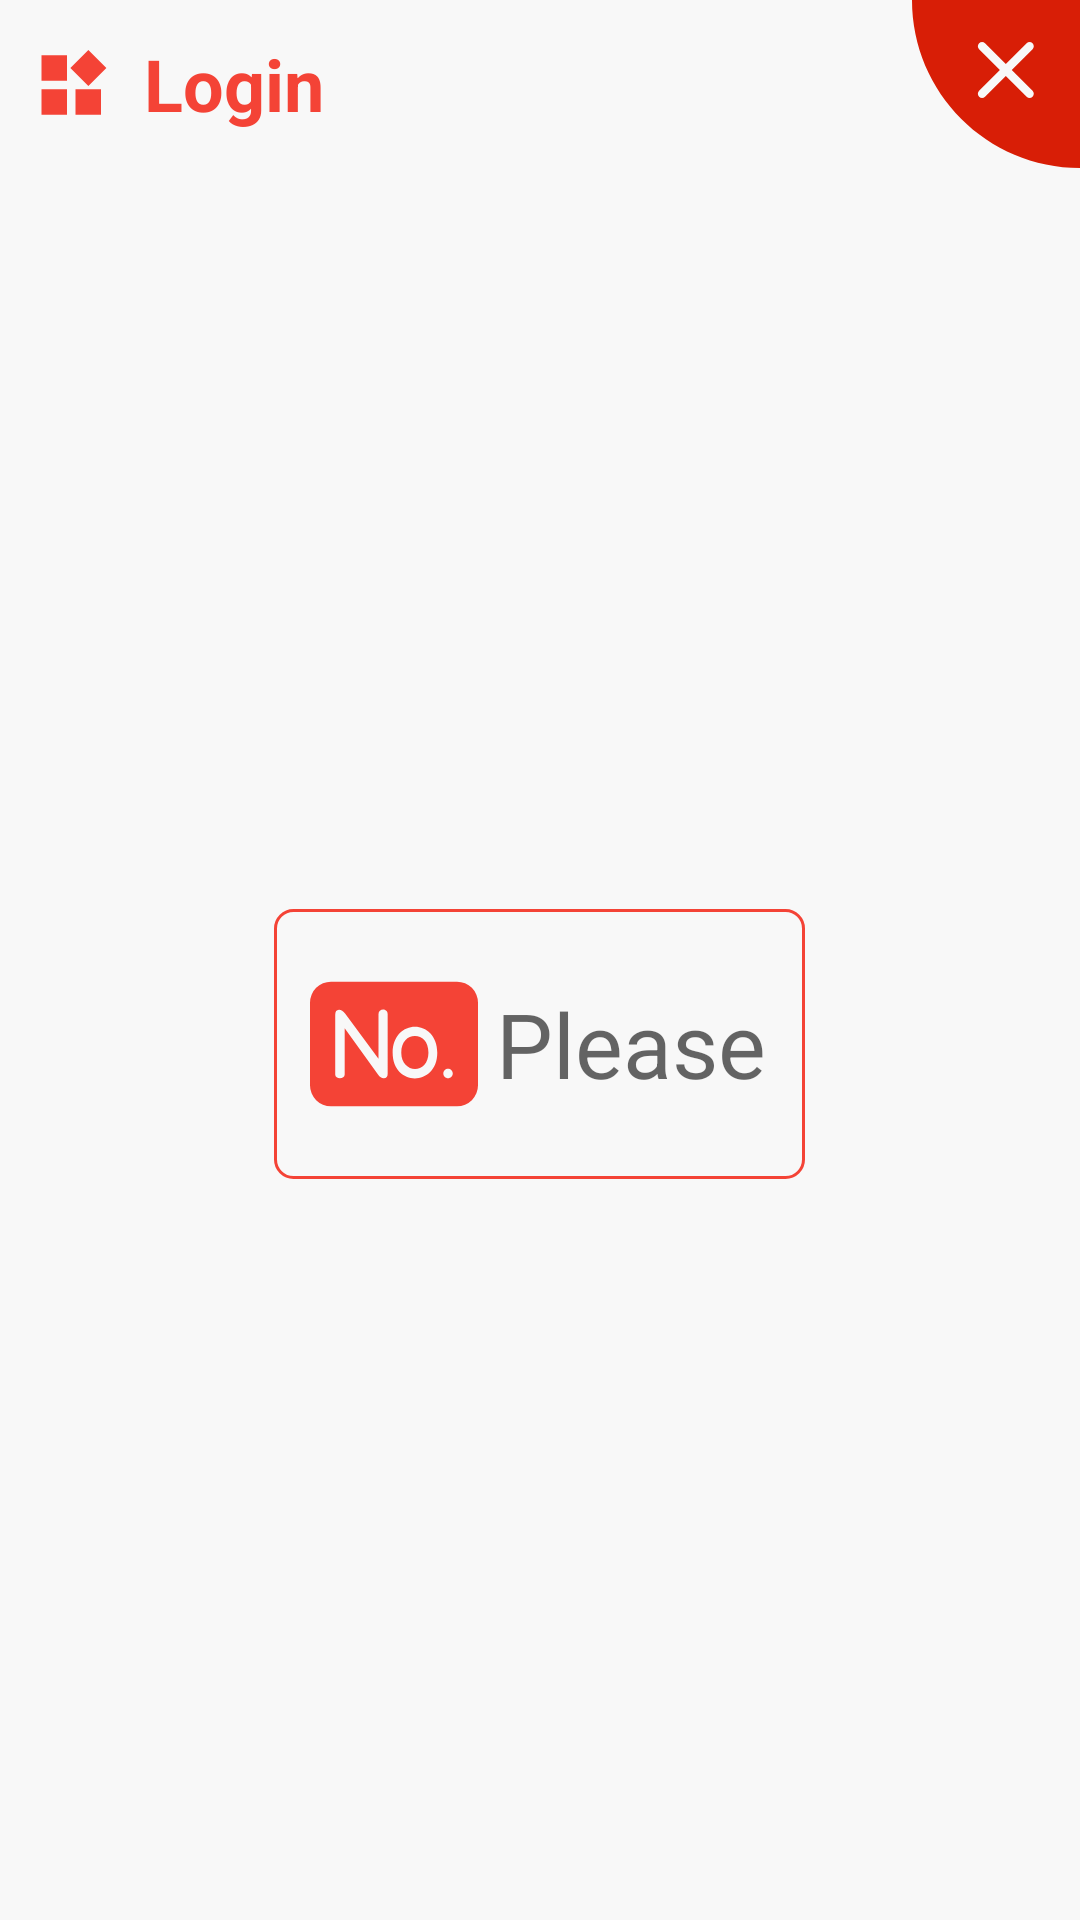

Icon click points for this 1080w x 1920h phone screenshot, format point (x, y):
close: point (996, 84)
